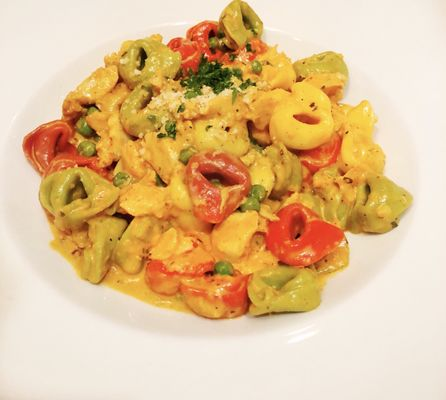curry: (180, 59, 243, 99)
